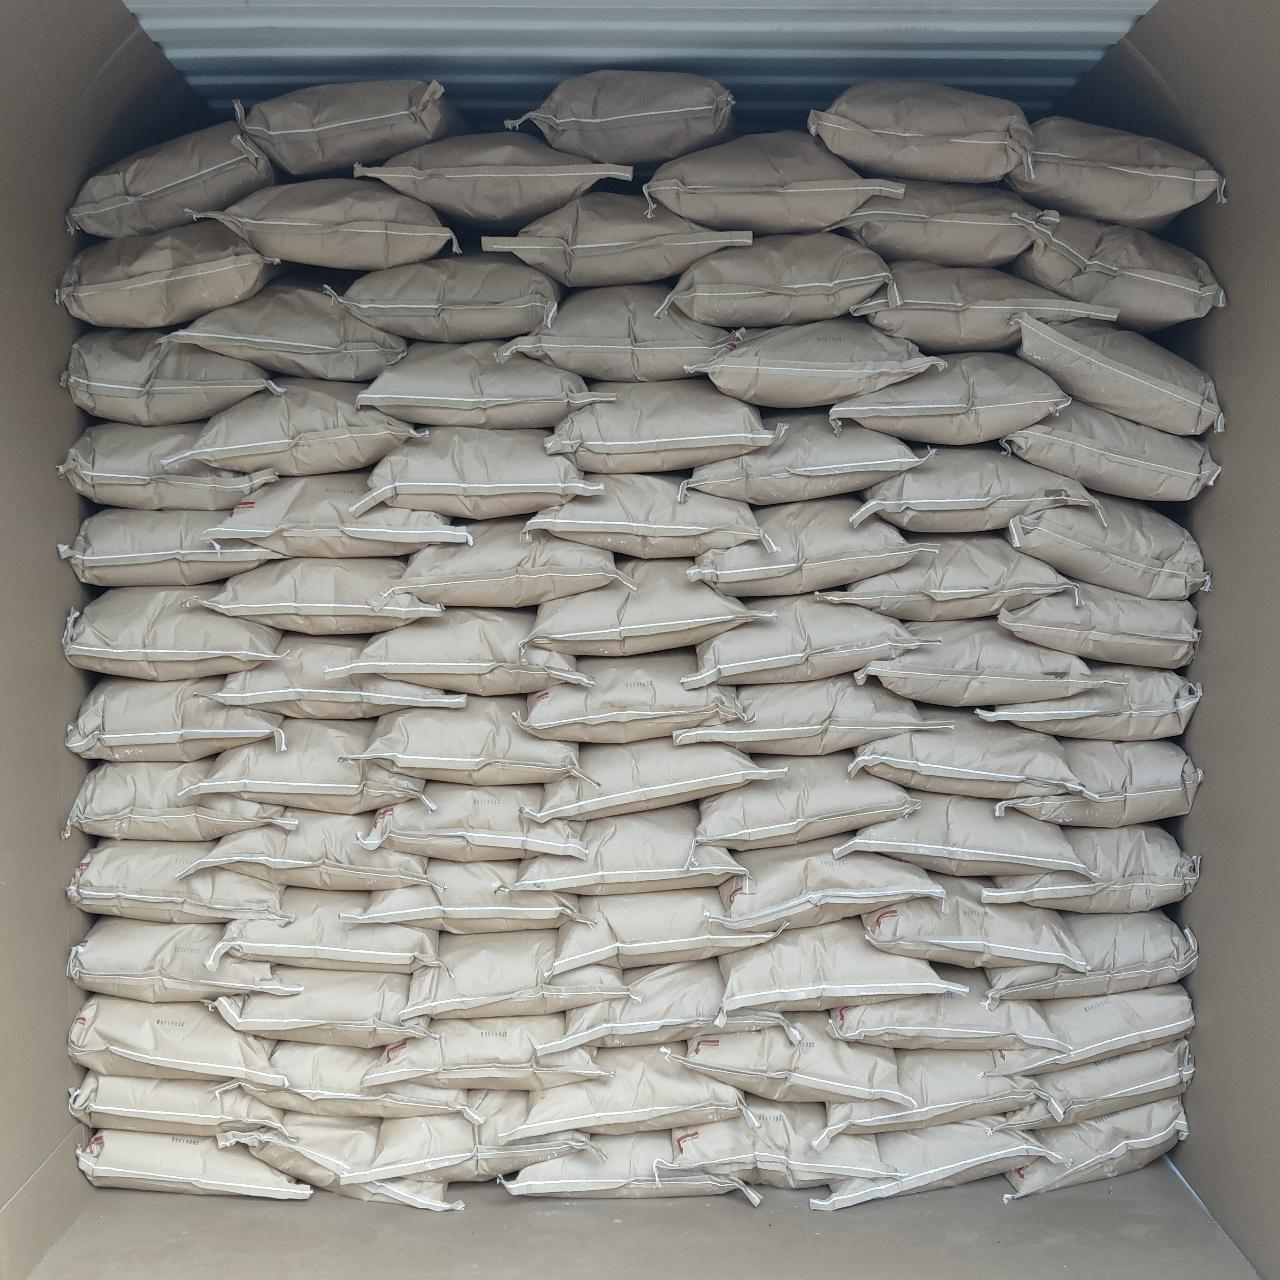sack: (158, 278, 404, 380), (484, 192, 750, 286), (356, 132, 628, 224), (644, 132, 892, 230), (1016, 318, 1223, 434), (218, 1114, 459, 1212), (496, 282, 740, 380), (70, 122, 278, 236), (1006, 118, 1223, 226), (1010, 216, 1223, 326), (57, 222, 280, 326), (181, 377, 424, 472), (546, 960, 798, 1051), (526, 560, 770, 654), (855, 263, 1112, 350), (692, 496, 918, 595), (200, 181, 454, 268), (240, 79, 468, 176), (812, 1050, 1039, 1148), (685, 411, 928, 502), (696, 318, 944, 406), (810, 82, 1028, 182), (676, 674, 948, 754), (812, 1121, 1058, 1208), (830, 354, 1068, 444), (1002, 402, 1220, 501), (818, 535, 1068, 620), (852, 445, 1098, 532), (358, 342, 612, 425), (527, 738, 782, 822), (526, 474, 776, 558), (212, 634, 462, 719), (508, 72, 734, 164), (690, 595, 922, 686), (666, 1014, 904, 1102), (549, 888, 776, 980), (212, 472, 462, 556), (510, 804, 740, 894), (720, 918, 949, 1008), (668, 1096, 892, 1189), (720, 836, 942, 928), (362, 428, 590, 518), (200, 720, 422, 812), (368, 1090, 592, 1182), (696, 754, 914, 847), (1006, 496, 1206, 598), (546, 380, 772, 470), (396, 930, 622, 1020), (836, 794, 1084, 876), (346, 608, 584, 694), (855, 708, 1080, 798), (64, 584, 278, 678), (866, 874, 1084, 966), (858, 620, 1094, 704), (396, 520, 628, 606), (62, 331, 278, 422), (512, 1048, 742, 1133), (672, 234, 886, 326), (338, 254, 560, 342), (520, 651, 740, 740), (348, 696, 574, 782), (986, 910, 1196, 1000), (60, 422, 278, 508), (215, 888, 438, 972), (68, 840, 290, 924), (983, 824, 1198, 910), (184, 810, 422, 886), (229, 1042, 467, 1118), (68, 918, 294, 998), (68, 758, 294, 838), (1008, 1098, 1189, 1198), (830, 968, 1062, 1046), (68, 676, 286, 758), (362, 782, 588, 860), (840, 182, 1056, 264), (992, 983, 1190, 1073), (210, 966, 430, 1046), (70, 994, 275, 1080), (501, 1132, 758, 1200), (342, 860, 586, 932), (198, 558, 440, 629), (998, 583, 1198, 668), (60, 508, 284, 584), (370, 1014, 606, 1085), (978, 663, 1198, 740), (1000, 1040, 1192, 1126), (996, 740, 1198, 822), (79, 1130, 309, 1198), (70, 1070, 280, 1133)
